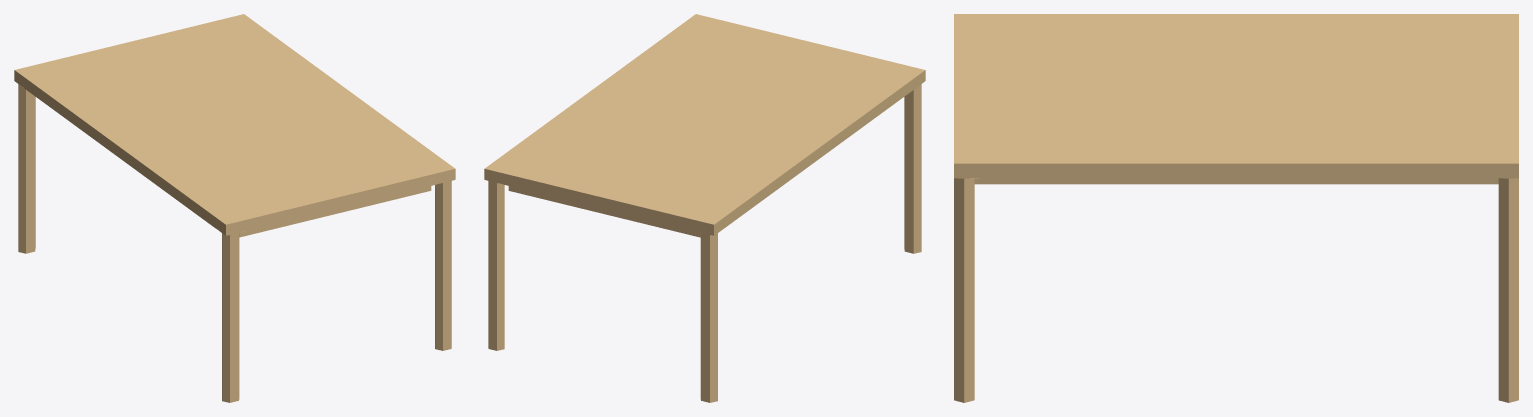
The model's file is new_table_boss.fbx.
3 views of the same model, side by side, from view 1: azimuth 30°, elevation 25°; view 2: azimuth 150°, elevation 25°; view 3: azimuth 270°, elevation 25° (orthographic). The views are drawn at different scales.
Visible parts, largest first — view 1: Cube.001; view 2: Cube.001; view 3: Cube.001.
Boxes of the visible parts, x1=… form: Cube.001: x1=14, y1=14, x2=455, y2=402; Cube.001: x1=484, y1=14, x2=925, y2=402; Cube.001: x1=954, y1=14, x2=1518, y2=402.
Size of the model in its own units: 141 by 105 by 225.
